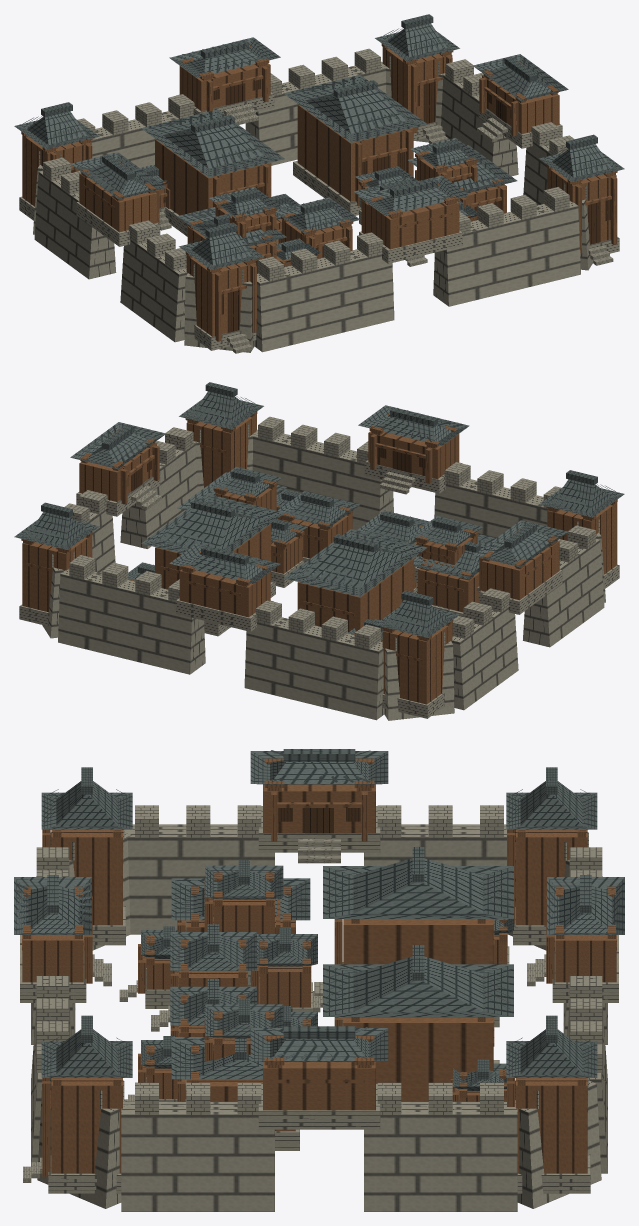
File: city1-lod0.glb
3 renders of one model, top to bottom at view 1: azimuth 30°, elevation 25°; view 2: azimuth 150°, elevation 25°; view 3: azimuth 270°, elevation 25°, orthographic. The views are drawn at different scales.
Bounding box in the file's own units: 2.15 × 0.561 × 1.79.
Materials: 1 (1 with a texture image).
